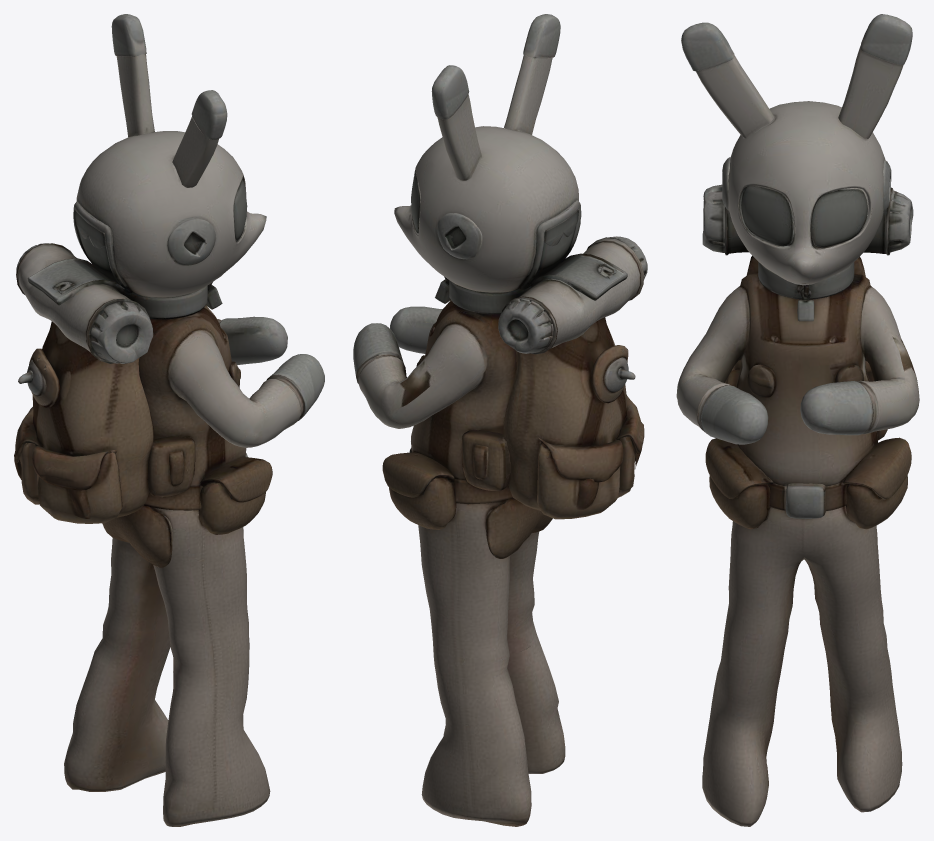
Rendered from astro-jetpack.glb.
3 views of the same model, side by side, from view 1: azimuth 30°, elevation 25°; view 2: azimuth 150°, elevation 25°; view 3: azimuth 270°, elevation 25° (orthographic). The views are drawn at different scales.
Visible parts, largest first — view 1: tripo_node_6b5bac17-437b-42ac-b832-80ddfe7bcb8d; view 2: tripo_node_6b5bac17-437b-42ac-b832-80ddfe7bcb8d; view 3: tripo_node_6b5bac17-437b-42ac-b832-80ddfe7bcb8d.
Boxes of the visible parts, box(x1,y1,x2,y2) form: tripo_node_6b5bac17-437b-42ac-b832-80ddfe7bcb8d: box(14, 14, 324, 826); tripo_node_6b5bac17-437b-42ac-b832-80ddfe7bcb8d: box(353, 14, 647, 826); tripo_node_6b5bac17-437b-42ac-b832-80ddfe7bcb8d: box(676, 14, 919, 826).
Bounding box in the file's own units: 0.3803 × 0.9995 × 0.2818.
1 material, 1 textured.
